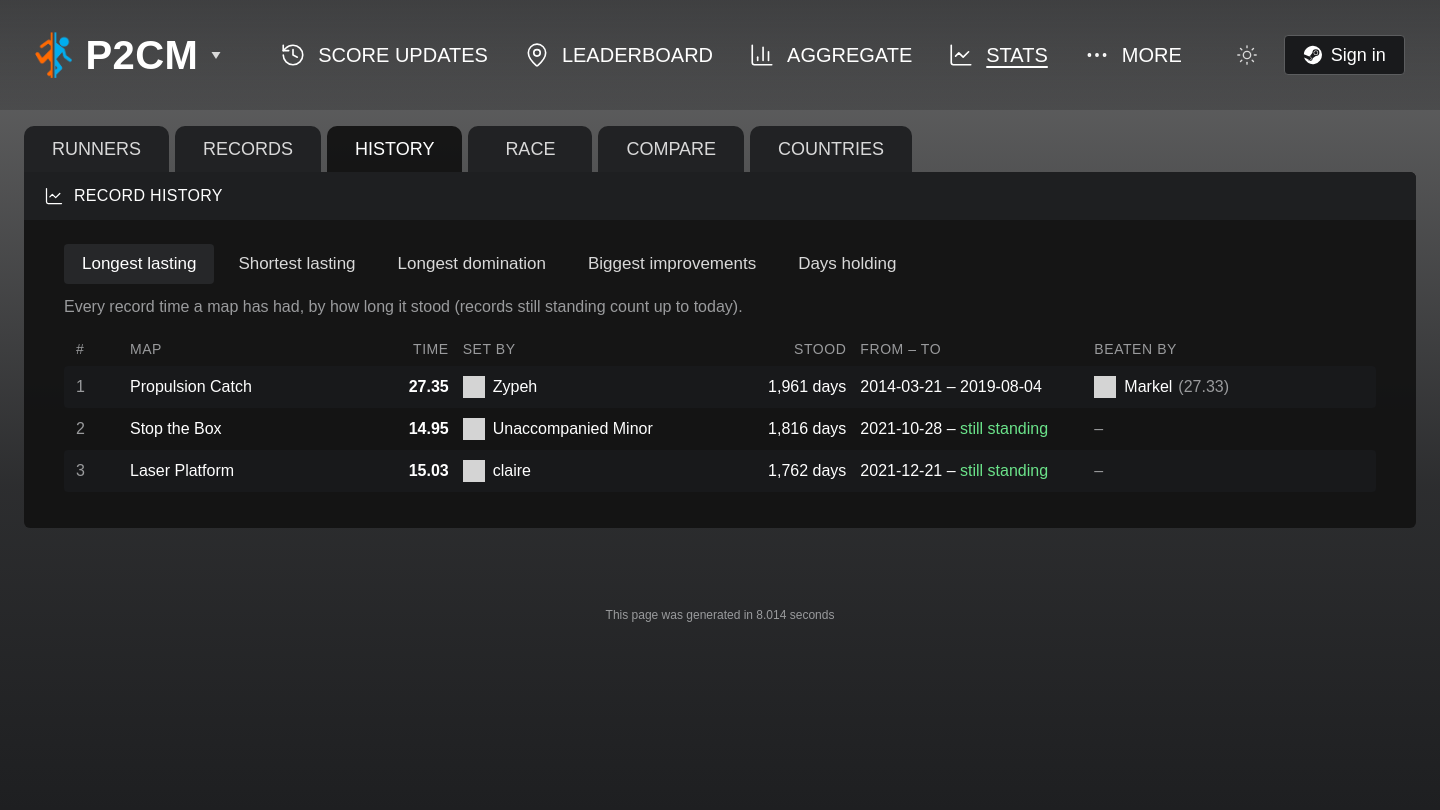
Test: Stats: History › shows Biggest improvements (?view=improvements)
This screenshot has width=1440, height=810.
What coordinates should you click on to do the following:
click the radio button labelled "Biggest improvements"
I would click on:
 (672, 264)
Its box is [570,244,774,284].
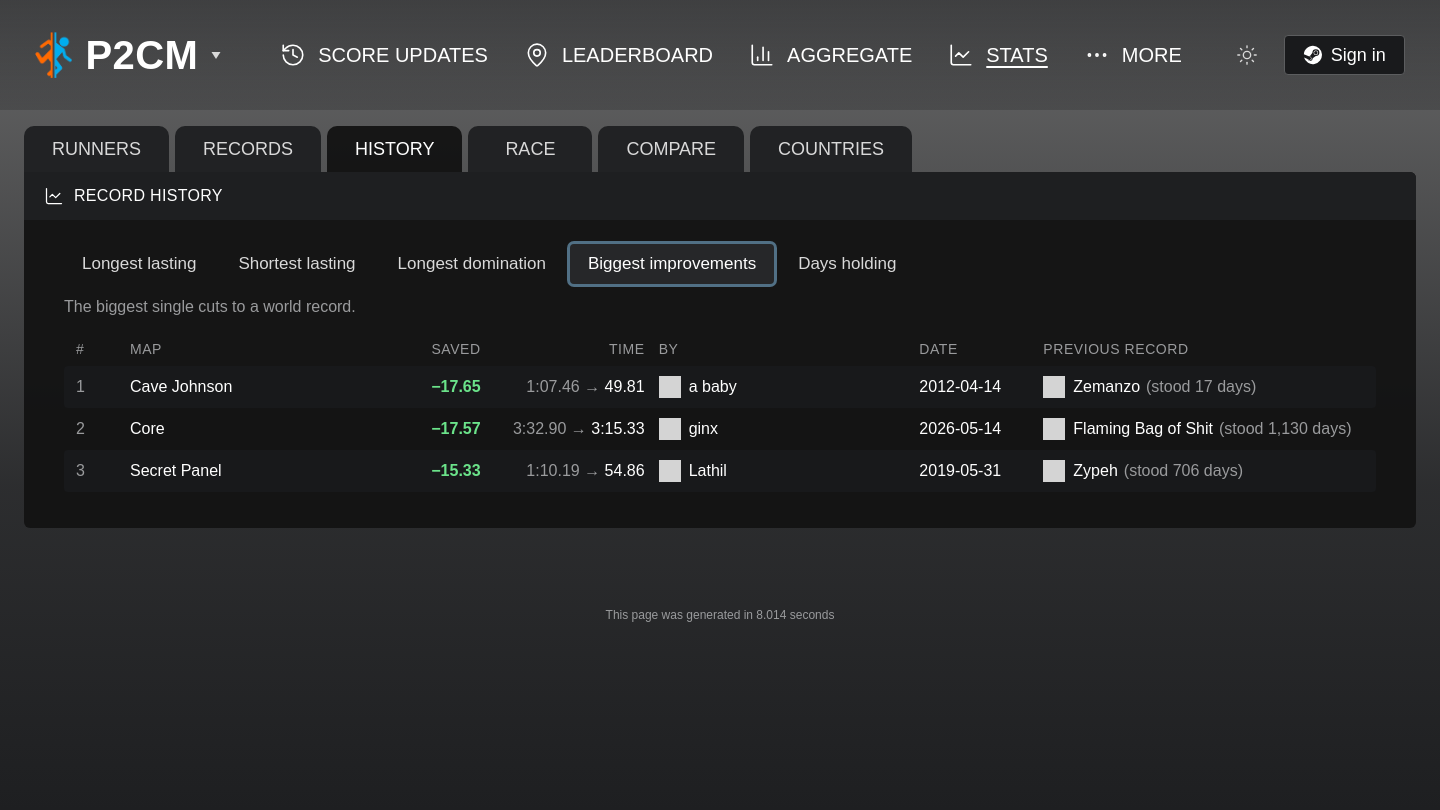
Expected: the link "Cave Johnson" is shown, [130,378,232,395]
